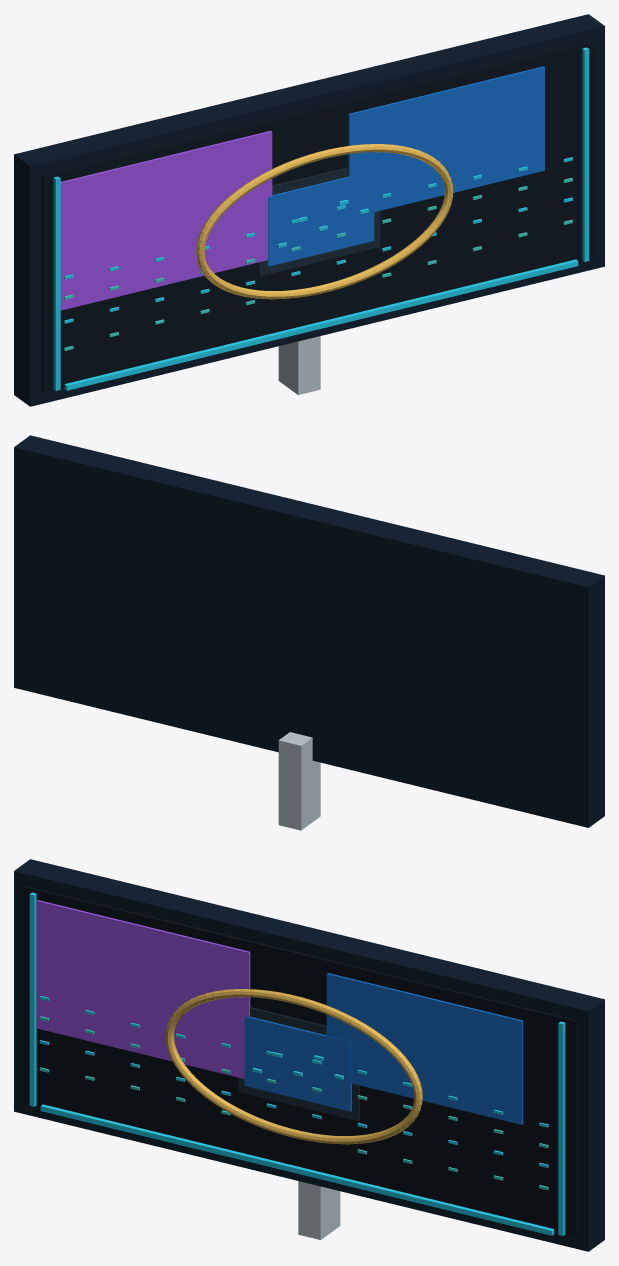
Rendered from 26_L83_PVMaximumPowerOperatingPointHologram.fbx.
The picture shows the model from 3 angles, top to bottom: view 1: azimuth 30°, elevation 25°; view 2: azimuth 150°, elevation 25°; view 3: azimuth 330°, elevation 25°; orthographic projection.
Parts seen in each view (by area): view 1: PVMaximumPowerOperatingPointHologram, PVMaximumPowerOperatingPointHologram_Part_0196, PVMaximumPowerOperatingPointHologram_Part_0195; view 2: PVMaximumPowerOperatingPointHologram; view 3: PVMaximumPowerOperatingPointHologram, PVMaximumPowerOperatingPointHologram_Part_0196, PVMaximumPowerOperatingPointHologram_Part_0195.
Boxes of the visible parts, box(x1,y1,x2,y2) form: PVMaximumPowerOperatingPointHologram: box(14, 14, 604, 406); PVMaximumPowerOperatingPointHologram_Part_0196: box(267, 171, 374, 266); PVMaximumPowerOperatingPointHologram_Part_0195: box(259, 167, 380, 276); PVMaximumPowerOperatingPointHologram: box(14, 435, 604, 830); PVMaximumPowerOperatingPointHologram: box(14, 859, 604, 1251); PVMaximumPowerOperatingPointHologram_Part_0196: box(244, 1016, 351, 1111); PVMaximumPowerOperatingPointHologram_Part_0195: box(238, 1007, 359, 1121).
Bounding box in the file's own units: 305 × 153 × 34.
